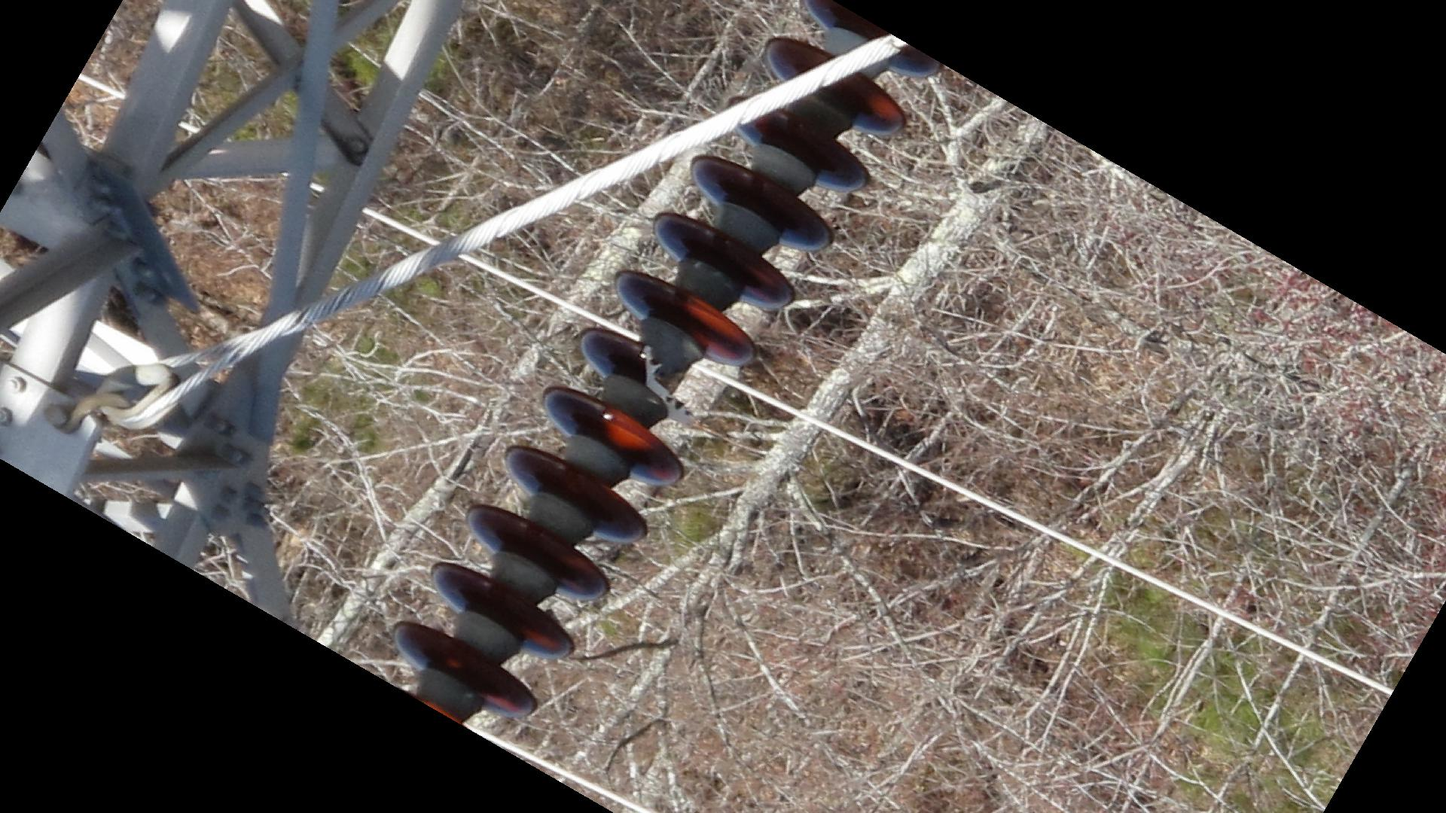insulator: (384, 1, 951, 725)
insulator_breakage: (630, 339, 704, 439)
